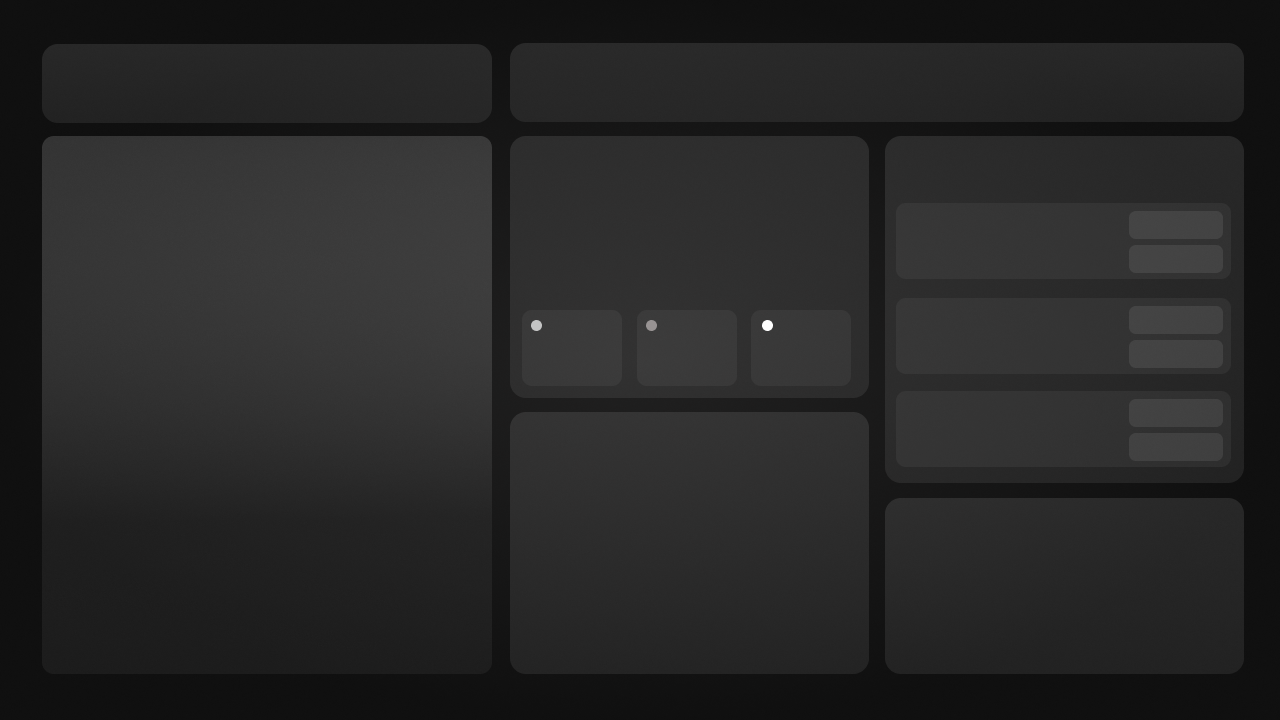

The page's visual inventory and layout, read from the dashboard file:
{"tool":"powerbi","page":{"name":"Page 1","canvas":[1280,720],"ordinal":0},"visuals":[{"type":"cardVisual","fields":{"Data":["DAX Queries.Distinct User Count"]},"box":[40.9,578.4,120,80],"z":0},{"type":"cardVisual","fields":{"Data":["Users.Trainer Name"]},"box":[137.8,578.4,120,80],"z":1},{"type":"cardVisual","fields":{"Data":["DAX Queries.Revenue"]},"box":[243.8,576.9,120,80],"z":2},{"type":"cardVisual","fields":{"Data":["DAX Queries.Expenses"]},"box":[362.7,579,119.3,79.5],"z":3},{"type":"cardVisual","fields":{"Data":["DAX Queries.Revenue"]},"box":[513.6,309.1,120,80],"z":4},{"type":"cardVisual","fields":{"Data":["DAX Queries.Expenses"]},"box":[627.8,308.6,119.3,79.5],"z":5},{"type":"cardVisual","fields":{"Data":["DAX Queries.Profit"]},"box":[741.2,308.6,119.3,79.5],"z":6},{"type":"lineClusteredColumnComboChart","fields":{"Category":["Date.Month"],"Y":["DAX Queries.Revenue","DAX Queries.Expenses"],"Y2":["DAX Queries.Profit"]},"box":[512.2,124.1,359.5,184.5],"z":7},{"type":"shape","box":[524.9,138.4,138.4,27],"z":8},{"type":"clusteredColumnChart","fields":{"Y":["DAX Queries.Distinct User Count"],"Category":["Date.Month"]},"box":[860.5,497.9,391.3,184.5],"z":9},{"type":"shape","box":[895.5,497.9,138.4,27],"z":10},{"type":"tableEx","fields":{"Values":["Users.UserName","Users.Status","Users.SVG_BarChart1"]},"box":[513.8,423.1,357.9,235.4],"z":11},{"type":"shape","box":[983,203.6,125.7,50.9],"z":12},{"type":"shape","box":[983,297.4,144.7,50.9],"z":13},{"type":"shape","box":[983,388.1,144.7,50.9],"z":14},{"type":"shape","box":[983,229,162.2,50.9],"z":15},{"type":"shape","box":[983,322.9,144.7,50.9],"z":16},{"type":"shape","box":[983,413.6,144.7,50.9],"z":17},{"type":"donutChart","fields":{"Y":["DAX Queries.Gold Members"],"Category":["Users.Status"]},"box":[889.2,303.8,84.3,70],"z":18},{"type":"donutChart","fields":{"Y":["DAX Queries.Silver Members"],"Category":["Users.Status"]},"box":[889.2,394.5,84.3,70],"z":19},{"type":"donutChart","fields":{"Y":["DAX Queries.Platinum Members"],"Category":["Users.Status"]},"box":[889.2,203.6,84.3,70],"z":20},{"type":"cardVisual","fields":{"Data":["DAX Queries.Active Platinum Members"]},"box":[1170.7,190.9,81.1,52.5],"z":21},{"type":"cardVisual","fields":{"Data":["DAX Queries.Expired Platinum Members"]},"box":[1170.7,227.5,81.1,52.5],"z":22},{"type":"cardVisual","fields":{"Data":["DAX Queries.Active Gold Members"]},"box":[1170.7,286.3,81.1,52.5],"z":23},{"type":"cardVisual","fields":{"Data":["DAX Queries.Expired Gold Members"]},"box":[1170.7,321.3,81.1,52.5],"z":24},{"type":"cardVisual","fields":{"Data":["DAX Queries.Active Silver Members"]},"box":[1170.7,377,81.1,52.5],"z":25},{"type":"cardVisual","fields":{"Data":["DAX Queries.Expired Silver Members"]},"box":[1170.7,413.6,81.1,52.5],"z":26},{"type":"shape","box":[1138.9,214.4,14.4,14.4],"z":27},{"type":"shape","box":[1139,247,14,15],"z":28},{"type":"shape","box":[1139,308,14,15],"z":29},{"type":"shape","box":[1139,345,14,15],"z":30},{"type":"shape","box":[1139,403,14,15],"z":31},{"type":"shape","box":[1139,433,14,15],"z":32},{"type":"shape","box":[1077.1,151.4,12.9,15.7],"z":33},{"type":"shape","box":[1162.9,151.4,14.3,15.7],"z":34},{"type":"shape","box":[888.6,145.7,138.6,27.1],"z":35},{"type":"shape","box":[1097.1,145.7,55.7,27.1],"z":36},{"type":"shape","box":[1182.9,145.7,55.7,27.1],"z":37},{"type":"shape","box":[58.6,48.6,138.6,42.9],"z":38},{"type":"shape","box":[151.4,48.6,162.9,42.9],"z":39},{"type":"shape","box":[60,91,271,20],"z":40},{"type":"shape","box":[523.8,48.8,138.8,42.5],"z":41},{"type":"shape","box":[523.8,91.2,271.2,20],"z":42},{"type":"image","box":[1196.2,48.8,42.5,62.5],"z":43}]}

Visuals, with their boxes in screenshot pixels (x1, y1, x2, y2), scaled from the page's 1280x720 canvas onto the 1280x720 screenshot:
cardVisual - DAX Queries.Distinct User Count: (x1=41, y1=578, x2=161, y2=658)
cardVisual - Users.Trainer Name: (x1=138, y1=578, x2=258, y2=658)
cardVisual - DAX Queries.Revenue: (x1=244, y1=577, x2=364, y2=657)
cardVisual - DAX Queries.Expenses: (x1=363, y1=579, x2=482, y2=658)
cardVisual - DAX Queries.Revenue: (x1=514, y1=309, x2=634, y2=389)
cardVisual - DAX Queries.Expenses: (x1=628, y1=309, x2=747, y2=388)
cardVisual - DAX Queries.Profit: (x1=741, y1=309, x2=860, y2=388)
lineClusteredColumnComboChart - Date.Month x DAX Queries.Revenue: (x1=512, y1=124, x2=872, y2=309)
shape: (x1=525, y1=138, x2=663, y2=165)
clusteredColumnChart - DAX Queries.Distinct User Count x Date.Month: (x1=860, y1=498, x2=1252, y2=682)
shape: (x1=896, y1=498, x2=1034, y2=525)
tableEx - Users.UserName x Users.Status: (x1=514, y1=423, x2=872, y2=658)
shape: (x1=983, y1=204, x2=1109, y2=254)
shape: (x1=983, y1=297, x2=1128, y2=348)
shape: (x1=983, y1=388, x2=1128, y2=439)
shape: (x1=983, y1=229, x2=1145, y2=280)
shape: (x1=983, y1=323, x2=1128, y2=374)
shape: (x1=983, y1=414, x2=1128, y2=464)
donutChart - DAX Queries.Gold Members x Users.Status: (x1=889, y1=304, x2=974, y2=374)
donutChart - DAX Queries.Silver Members x Users.Status: (x1=889, y1=394, x2=974, y2=464)
donutChart - DAX Queries.Platinum Members x Users.Status: (x1=889, y1=204, x2=974, y2=274)
cardVisual - DAX Queries.Active Platinum Members: (x1=1171, y1=191, x2=1252, y2=243)
cardVisual - DAX Queries.Expired Platinum Members: (x1=1171, y1=228, x2=1252, y2=280)
cardVisual - DAX Queries.Active Gold Members: (x1=1171, y1=286, x2=1252, y2=339)
cardVisual - DAX Queries.Expired Gold Members: (x1=1171, y1=321, x2=1252, y2=374)
cardVisual - DAX Queries.Active Silver Members: (x1=1171, y1=377, x2=1252, y2=430)
cardVisual - DAX Queries.Expired Silver Members: (x1=1171, y1=414, x2=1252, y2=466)
shape: (x1=1139, y1=214, x2=1153, y2=229)
shape: (x1=1139, y1=247, x2=1153, y2=262)
shape: (x1=1139, y1=308, x2=1153, y2=323)
shape: (x1=1139, y1=345, x2=1153, y2=360)
shape: (x1=1139, y1=403, x2=1153, y2=418)
shape: (x1=1139, y1=433, x2=1153, y2=448)
shape: (x1=1077, y1=151, x2=1090, y2=167)
shape: (x1=1163, y1=151, x2=1177, y2=167)
shape: (x1=889, y1=146, x2=1027, y2=173)
shape: (x1=1097, y1=146, x2=1153, y2=173)
shape: (x1=1183, y1=146, x2=1239, y2=173)
shape: (x1=59, y1=49, x2=197, y2=92)
shape: (x1=151, y1=49, x2=314, y2=92)
shape: (x1=60, y1=91, x2=331, y2=111)
shape: (x1=524, y1=49, x2=663, y2=91)
shape: (x1=524, y1=91, x2=795, y2=111)
image: (x1=1196, y1=49, x2=1239, y2=111)
